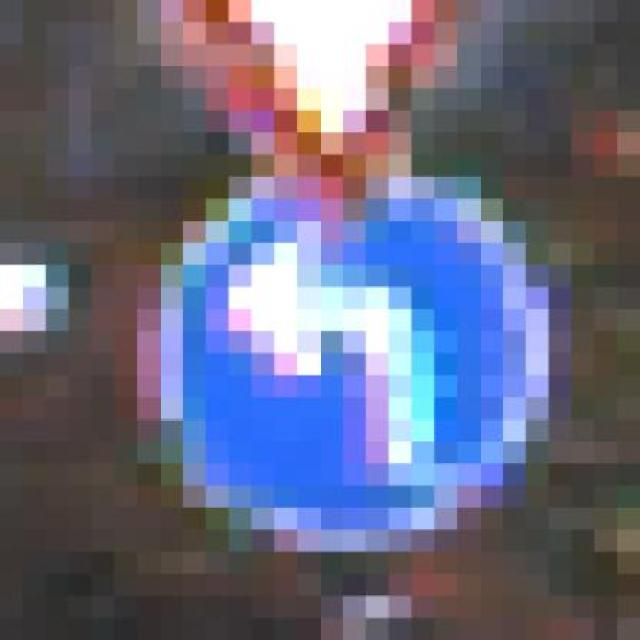Turn left ahead: (137, 110, 549, 552)
